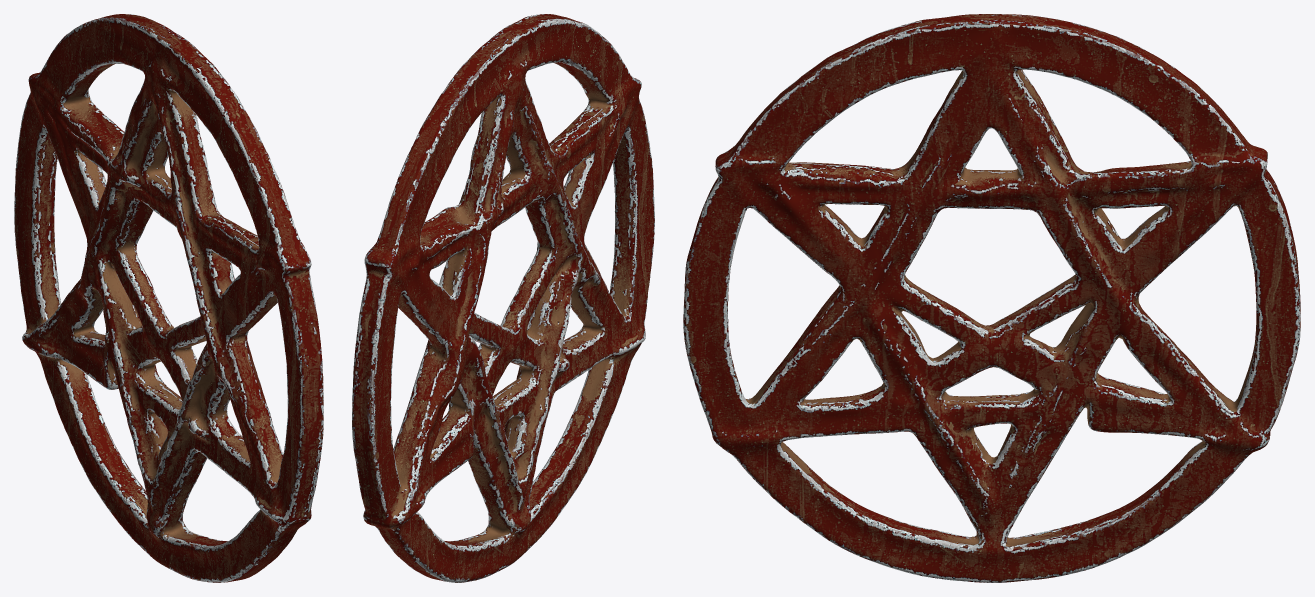
The model's file is staff.glb.
3 views of the same model, side by side, from view 1: azimuth 30°, elevation 25°; view 2: azimuth 150°, elevation 25°; view 3: azimuth 270°, elevation 25° (orthographic). The views are drawn at different scales.
Parts seen in each view (by area): view 1: model; view 2: model; view 3: model.
Boxes of the visible parts, x1=… form: model: x1=14, y1=14, x2=323, y2=582; model: x1=352, y1=14, x2=654, y2=582; model: x1=683, y1=14, x2=1300, y2=582.
Size of the model in its own units: 0.1442 by 1.8 by 1.8.
Materials: 1 (1 with a texture image).
